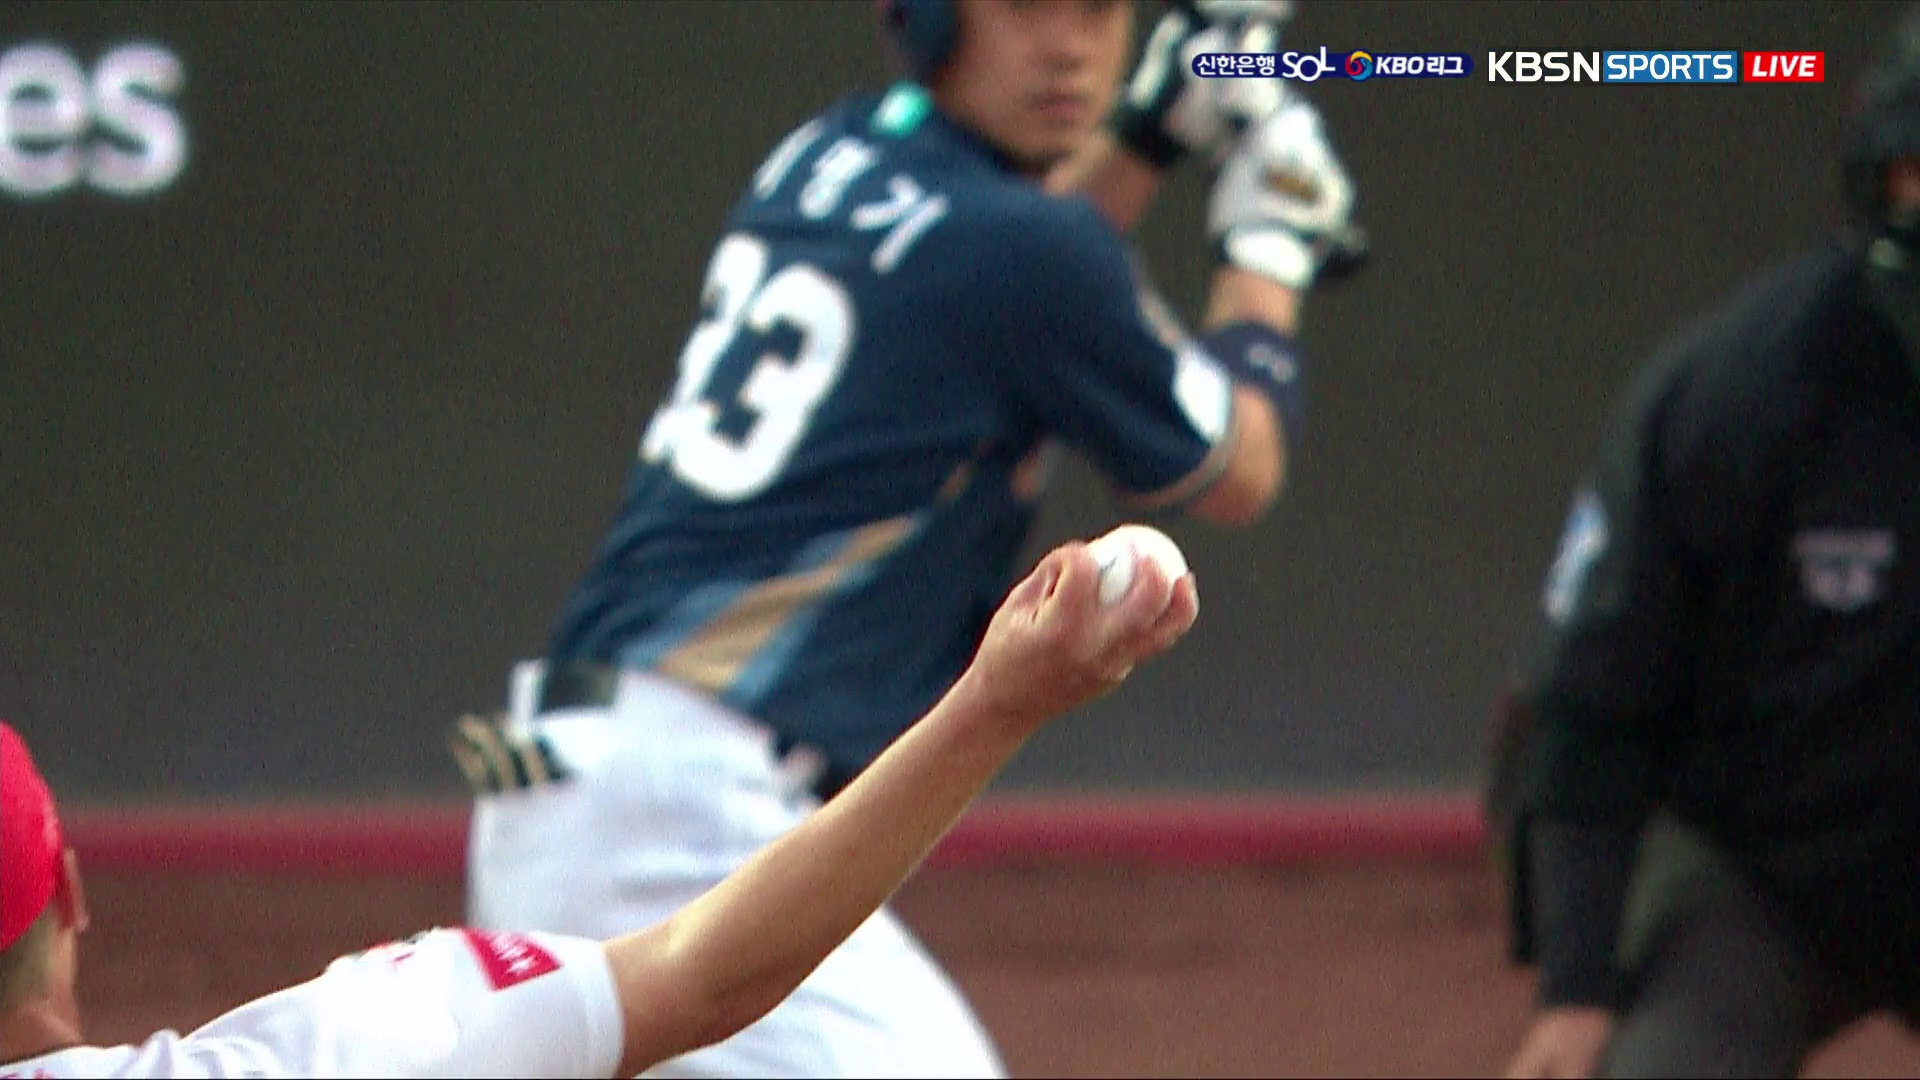zoomin_hand: (640, 512, 1208, 1065)
